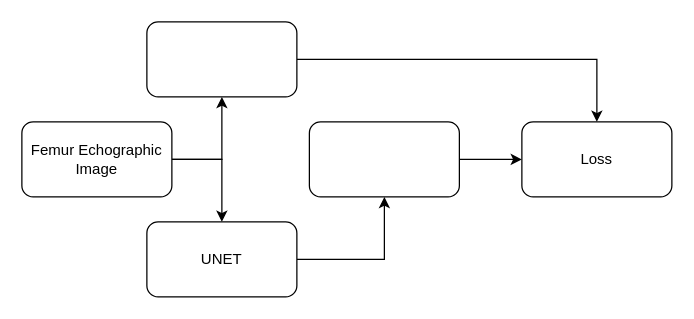
Some shapes in this 694 by 319 pixel diagram are drawn without their labels. Each missing label, with the box of its shape:
Manual Segmantation: (146, 21, 297, 97)
Segmentation Mask: (308, 121, 459, 197)
